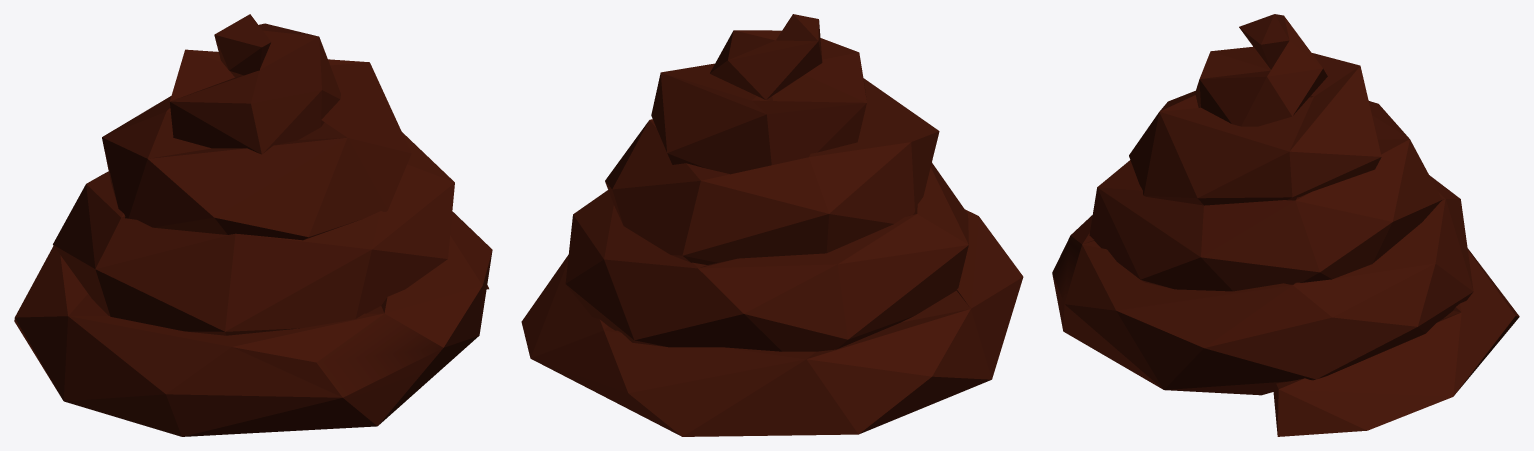
The model's file is poo.obj.
3 views of the same model, side by side, from view 1: azimuth 30°, elevation 25°; view 2: azimuth 150°, elevation 25°; view 3: azimuth 270°, elevation 25° (orthographic). The views are drawn at different scales.
Parts seen in each view (by area): view 1: PoopEmoji.001; view 2: PoopEmoji.001; view 3: PoopEmoji.001.
Boxes of the visible parts, left/top/right/bottom form: PoopEmoji.001: left=14, top=14, right=492, bottom=436; PoopEmoji.001: left=521, top=14, right=1023, bottom=436; PoopEmoji.001: left=1052, top=14, right=1519, bottom=436.
Bounding box in the file's own units: 0.205 × 0.1506 × 0.2038.
